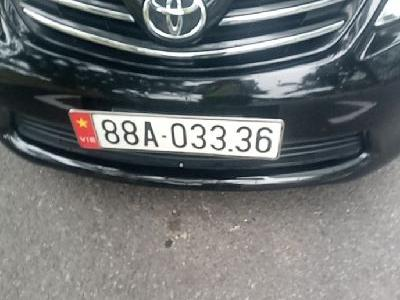lisence: (66, 107, 285, 163)
